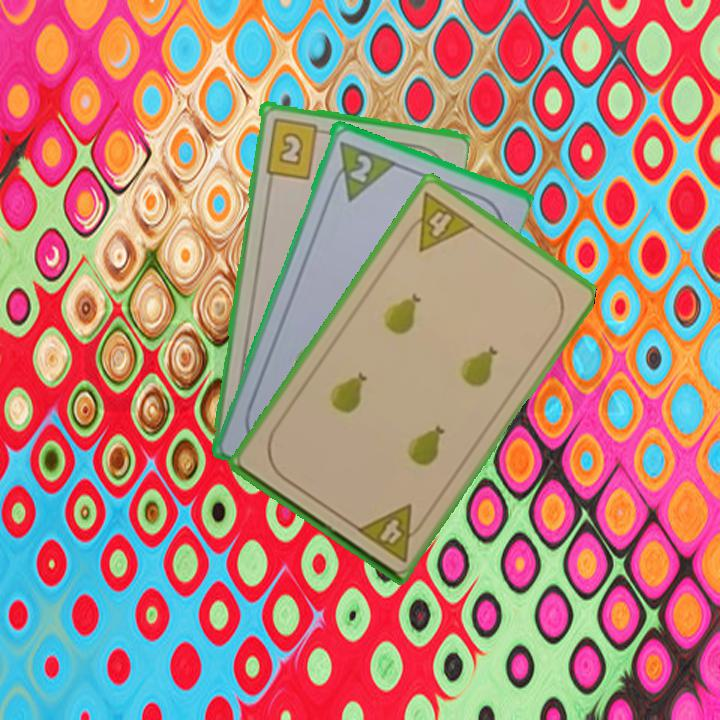2b: (261, 114, 329, 181)
2p: (346, 150, 375, 185)
4p: (398, 188, 478, 255), (353, 500, 430, 565)
